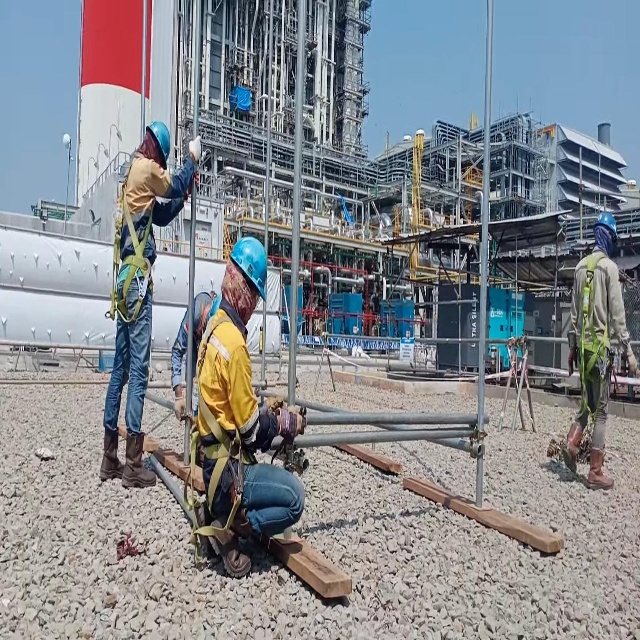Arnes_seguridad: (183, 309, 244, 553), (105, 148, 155, 327), (574, 251, 613, 423)
